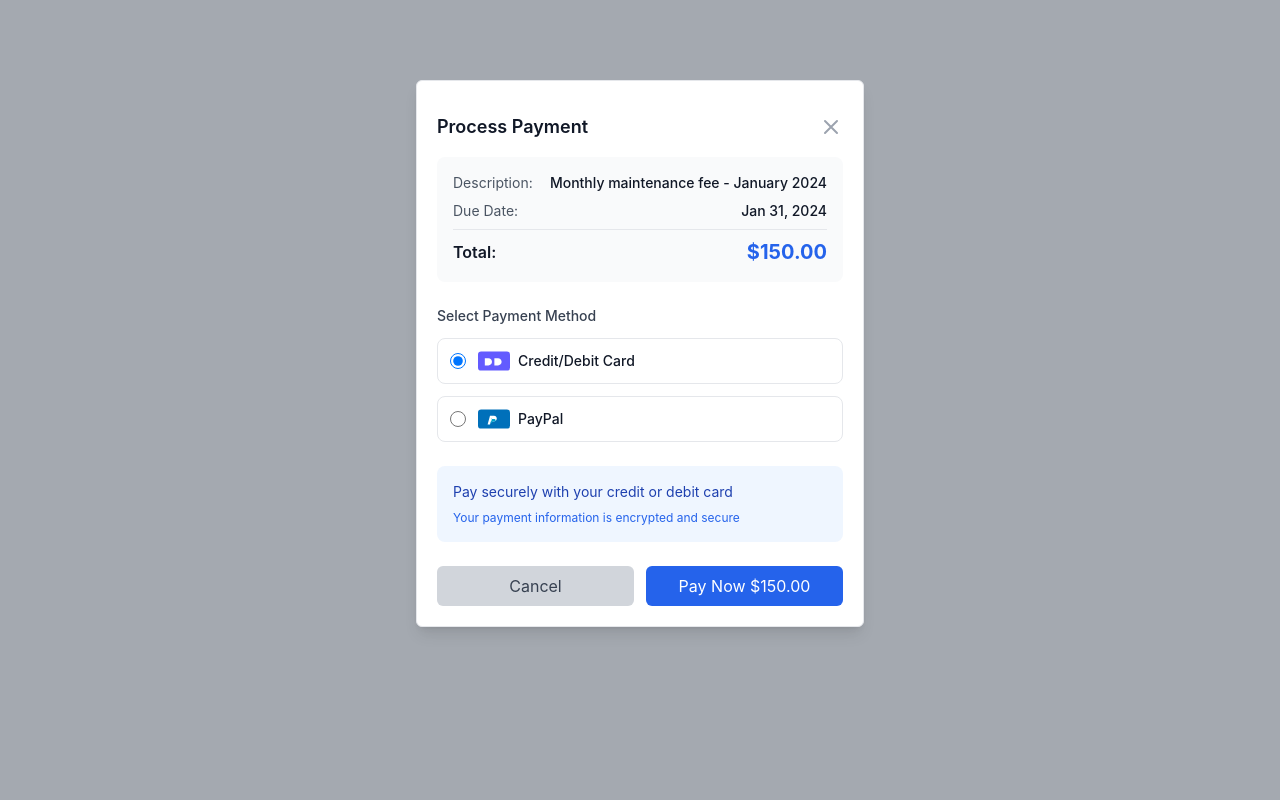
Test: PaymentForm › allows switching between payment methods
The width and height of the screenshot is (1280, 800).
Click the radio button showing "paypal": {"x": 458, "y": 419} [450, 411, 466, 427]
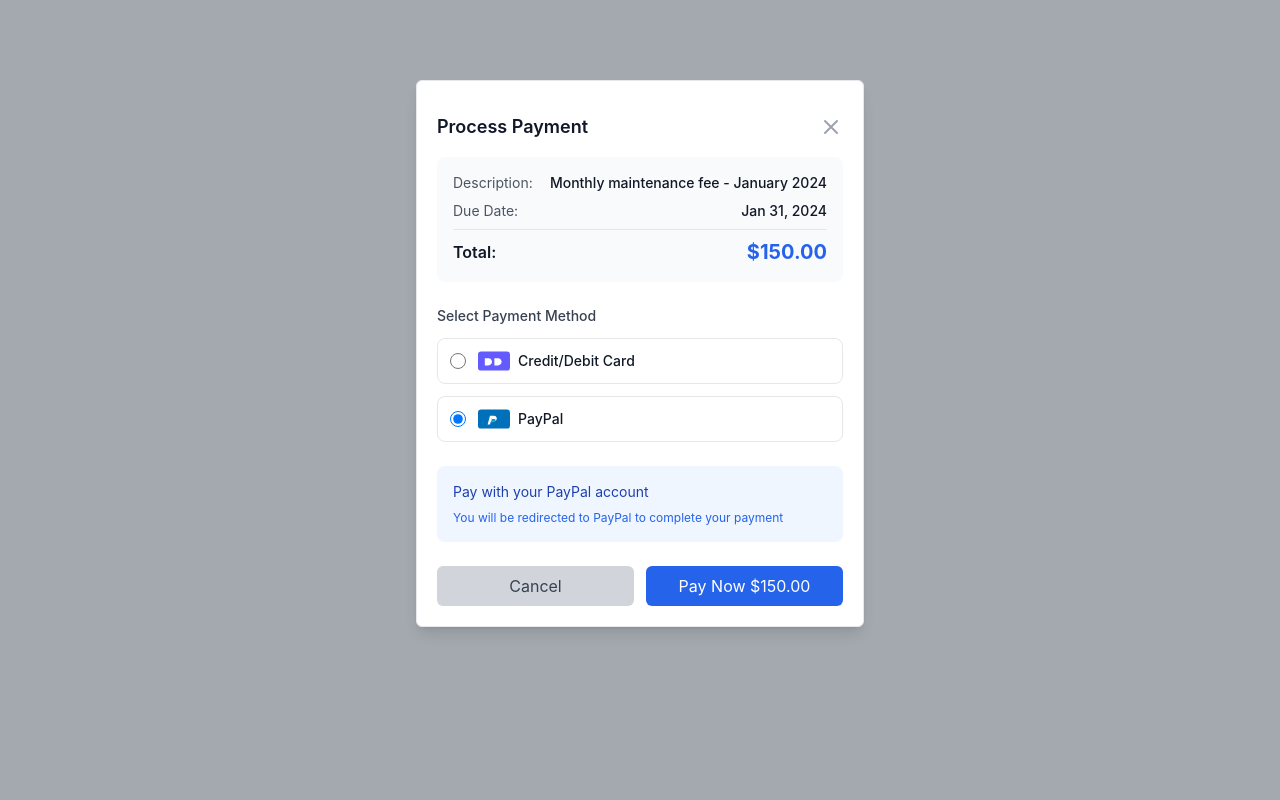
Now the radio button showing "paypal" is checked, box [450, 411, 466, 427]
Now the radio button showing "stripe" is not checked, box [450, 353, 466, 369]
